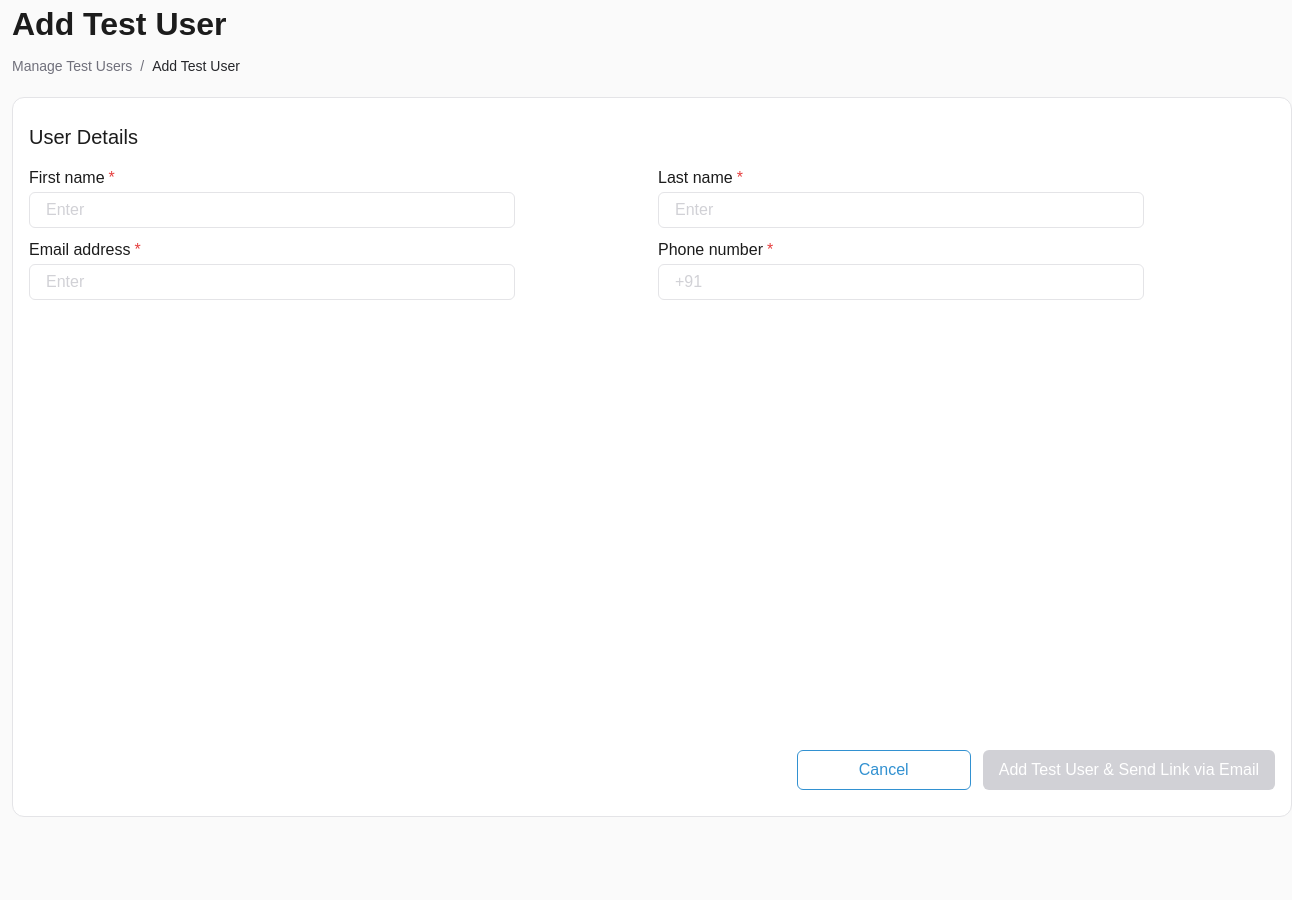
Test: UserAdminFormPage — Add Mode › submit button is enabled when form is valid
Type "Vijay" into the field labelled "First name*".
click(272, 210); type("Vijay")  # box [29,192,515,228]
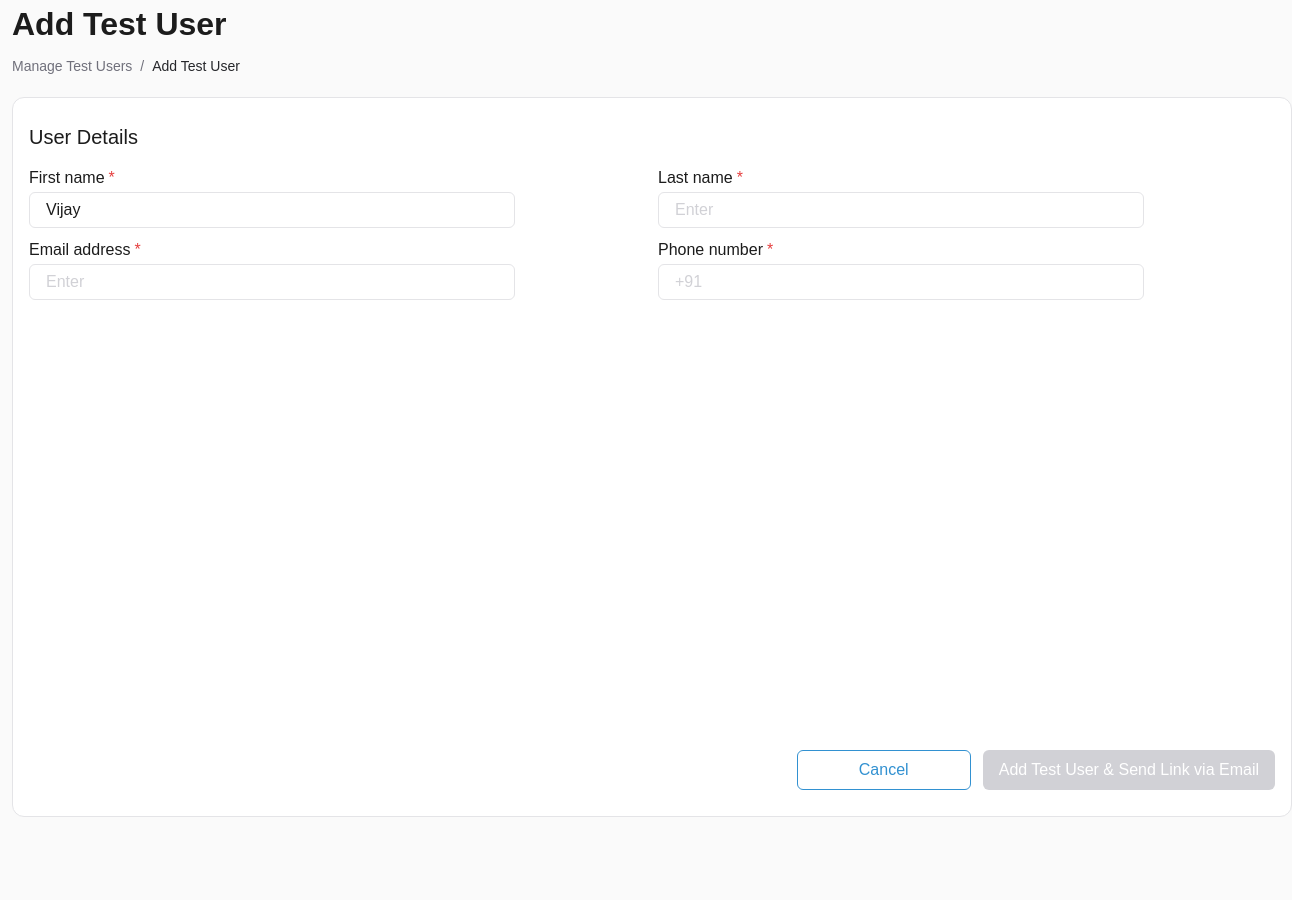
Type "Kumar" into the field labelled "Last name*".
click(901, 210); type("Kumar")  # box [658,192,1144,228]
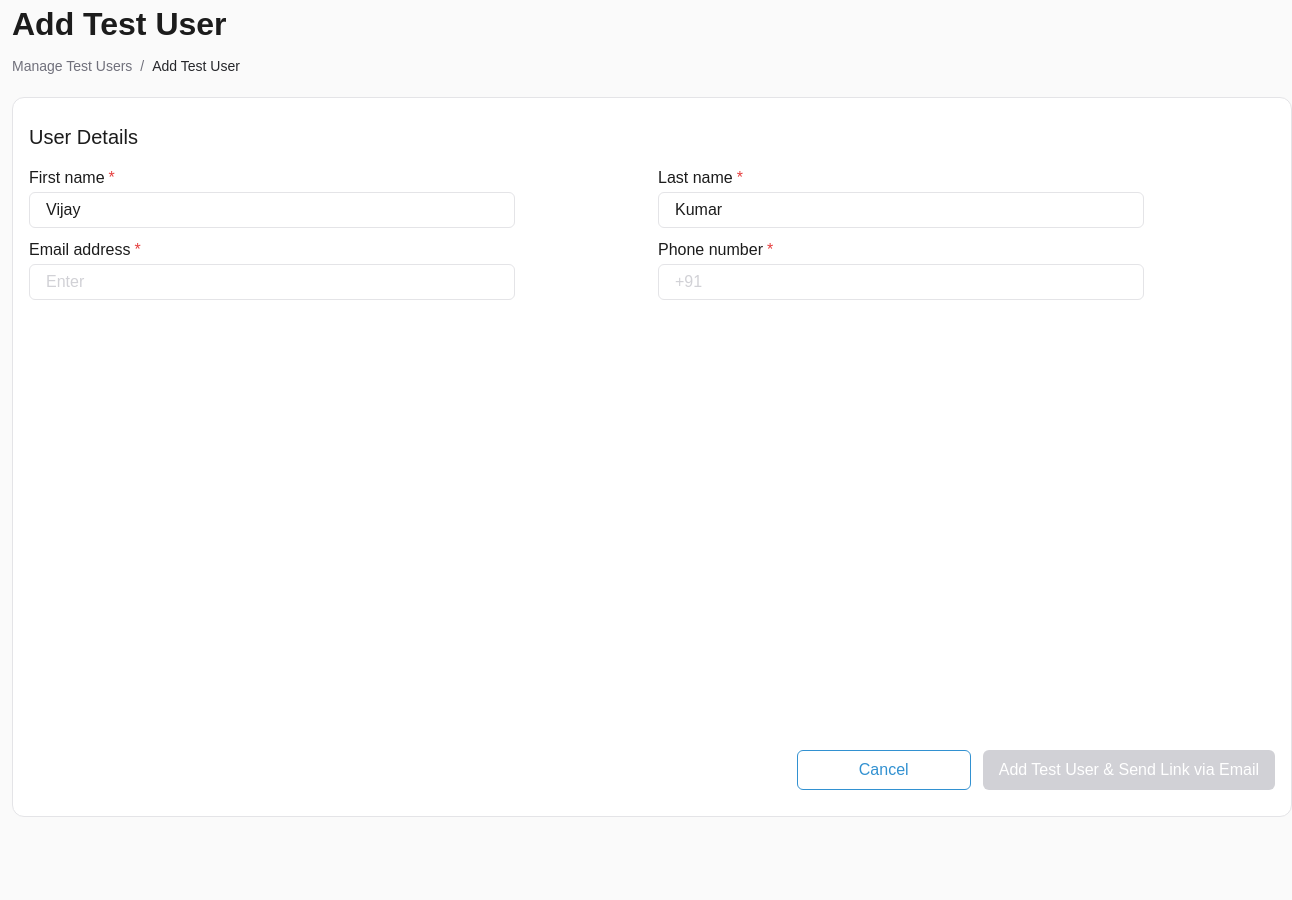
Type "vijay@gmail.com" into the field labelled "Email address*".
click(272, 282); type("vijay@gmail.com")  # box [29,264,515,300]
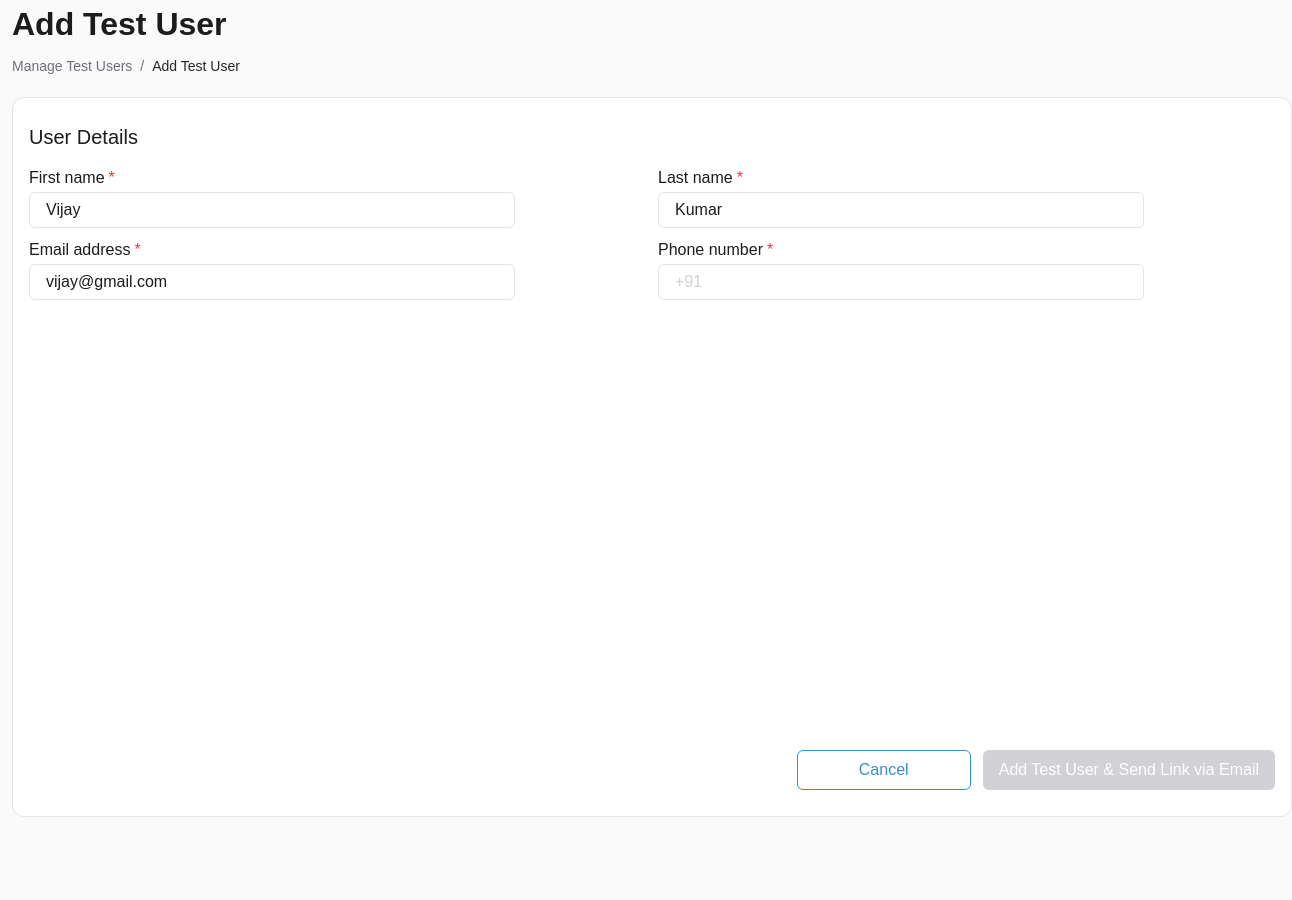
Type "8564254517" into the field labelled "Phone number*".
click(901, 282); type("8564254517")  # box [658,264,1144,300]
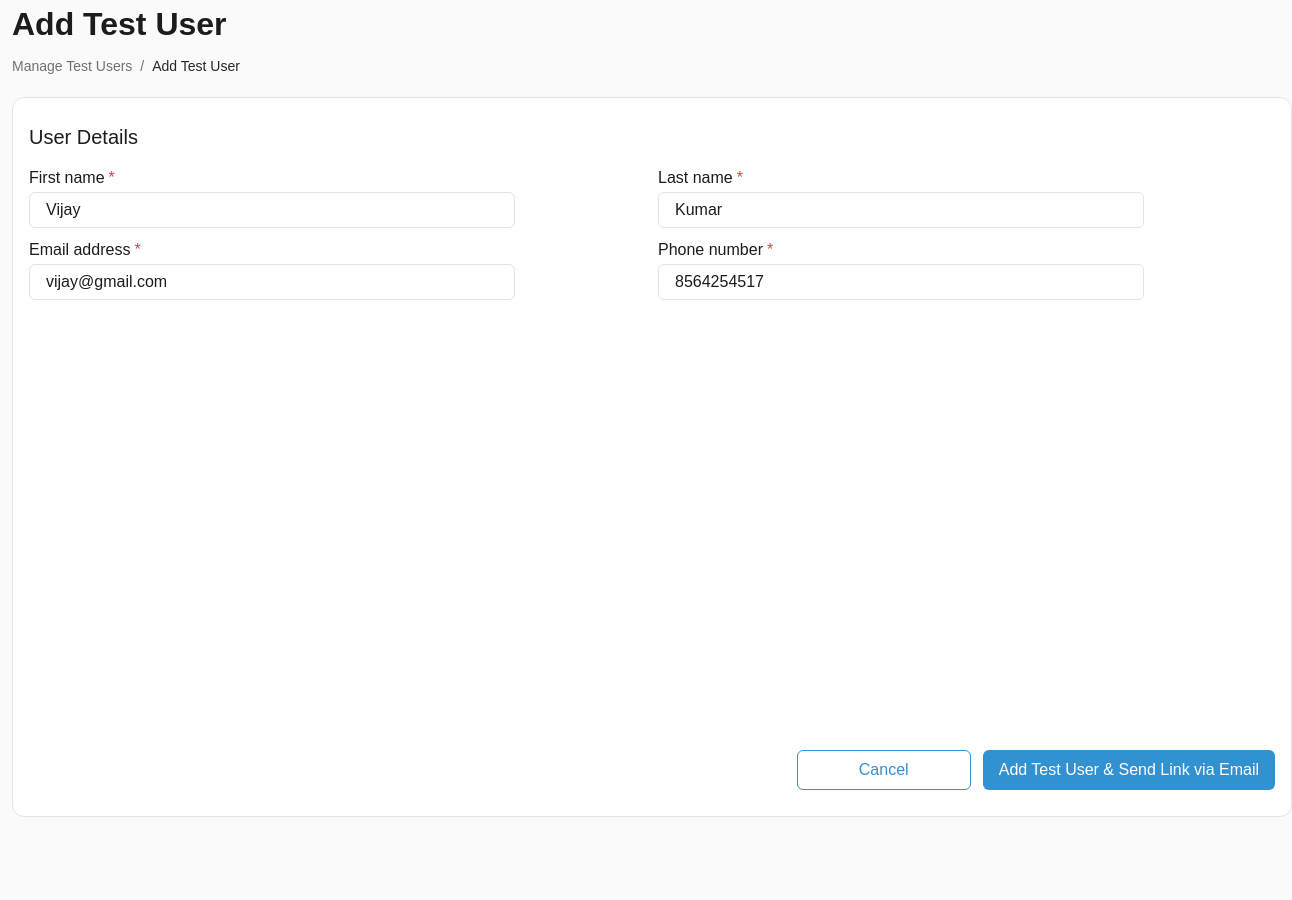
Now the button "Add Test User & Send Link via Email" is enabled, box [983,750,1275,790]
